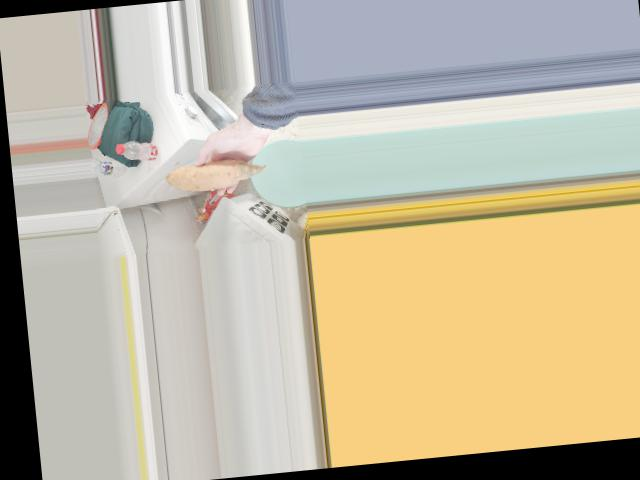sweet_potato: (176, 151, 247, 188)
